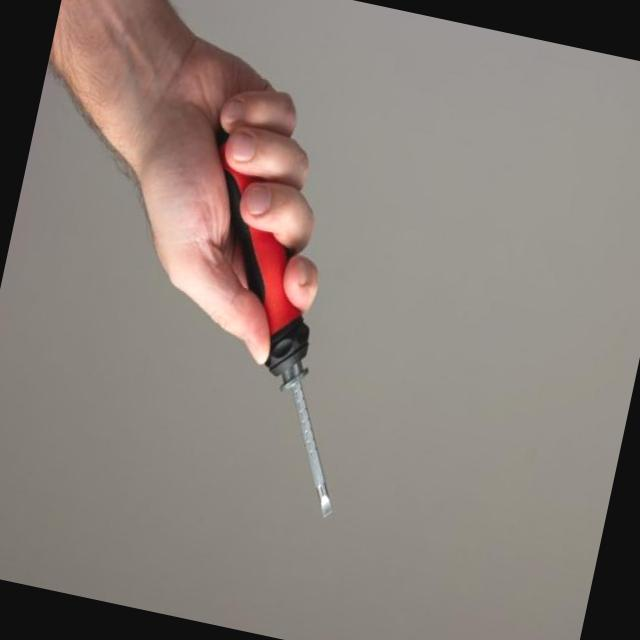screwdriver: (218, 132, 332, 517)
